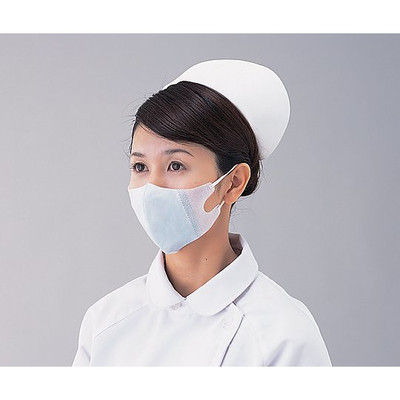mask: (127, 189, 217, 250)
